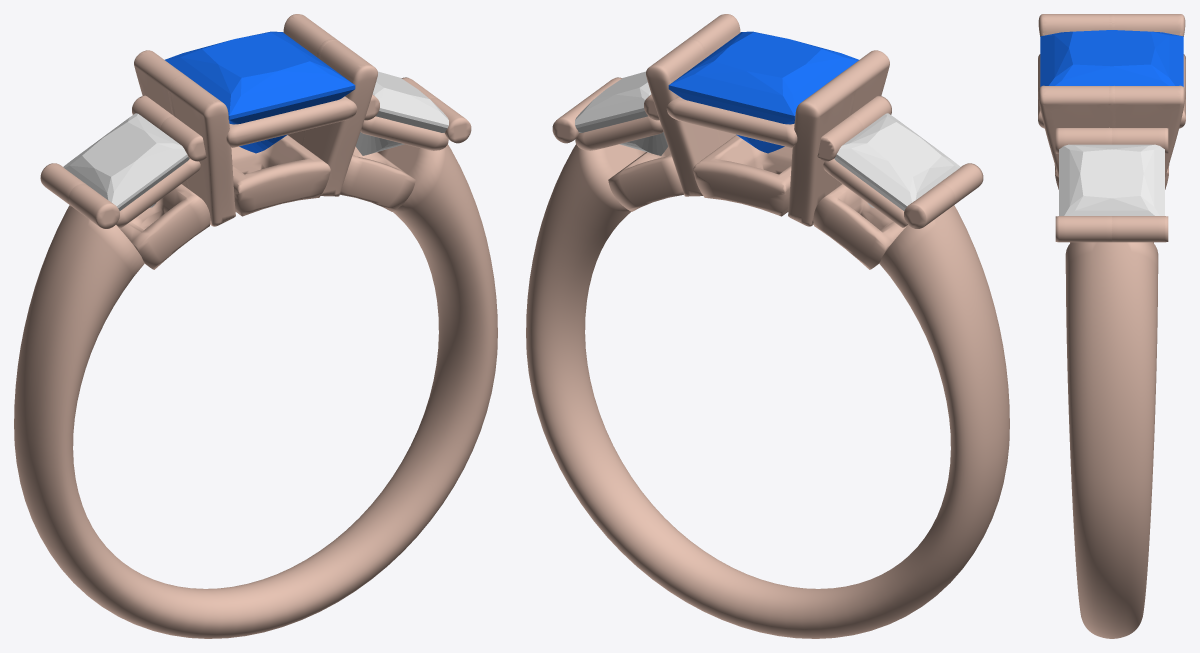
Rendered from bluesapphire-princess-rosegold-halfmoonbezel-taperedband-3stone.glb.
3 renders of one model, left to right at view 1: azimuth 30°, elevation 25°; view 2: azimuth 150°, elevation 25°; view 3: azimuth 270°, elevation 25°, orthographic.
Visible parts, largest first — view 1: metal, stone, side.002, side; view 2: metal, stone, side.002, side; view 3: metal, stone, side.
Part boxes in pixels (x1,y1,x2,y2): metal: (14,14,497,638); stone: (165,31,355,153); side.002: (63,113,189,210); side: (355,71,448,155); metal: (526,14,1009,638); stone: (668,31,858,153); side.002: (834,113,960,210); side: (575,71,668,155); metal: (1038,14,1185,638); stone: (1040,30,1183,86); side: (1059,144,1164,215).
Bounding box in the file's own units: 20.09 × 23.65 × 5.6.
